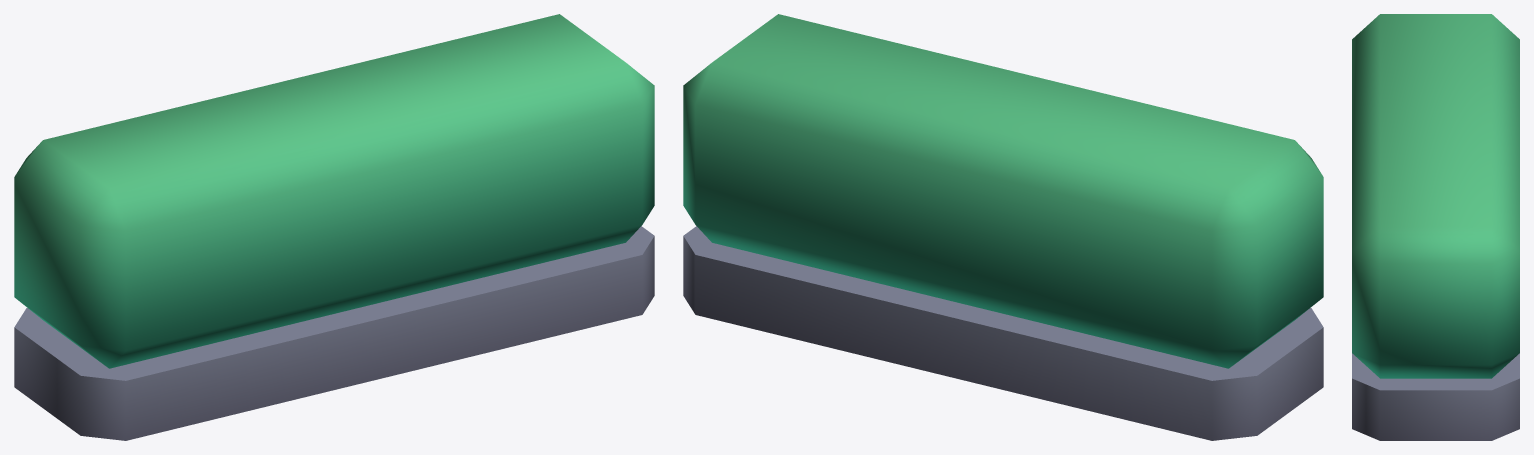
Rendered from cc0-hedge-lod0.glb.
3 renders of one model, left to right at view 1: azimuth 30°, elevation 25°; view 2: azimuth 150°, elevation 25°; view 3: azimuth 270°, elevation 25°, orthographic. The views are drawn at different scales.
Parts seen in each view (by area): view 1: part_0; view 2: part_0; view 3: part_0.
Boxes of the visible parts, x1,y1,x2,y2 form: part_0: (14, 14, 654, 440); part_0: (683, 14, 1323, 440); part_0: (1352, 14, 1519, 440).
Size of the model in its own units: 1 by 0.4 by 0.3.
Materials: 1 (1 with a texture image).
